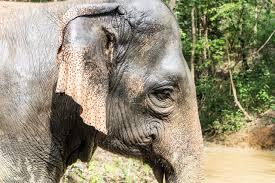elephant: (0, 0, 202, 182)
